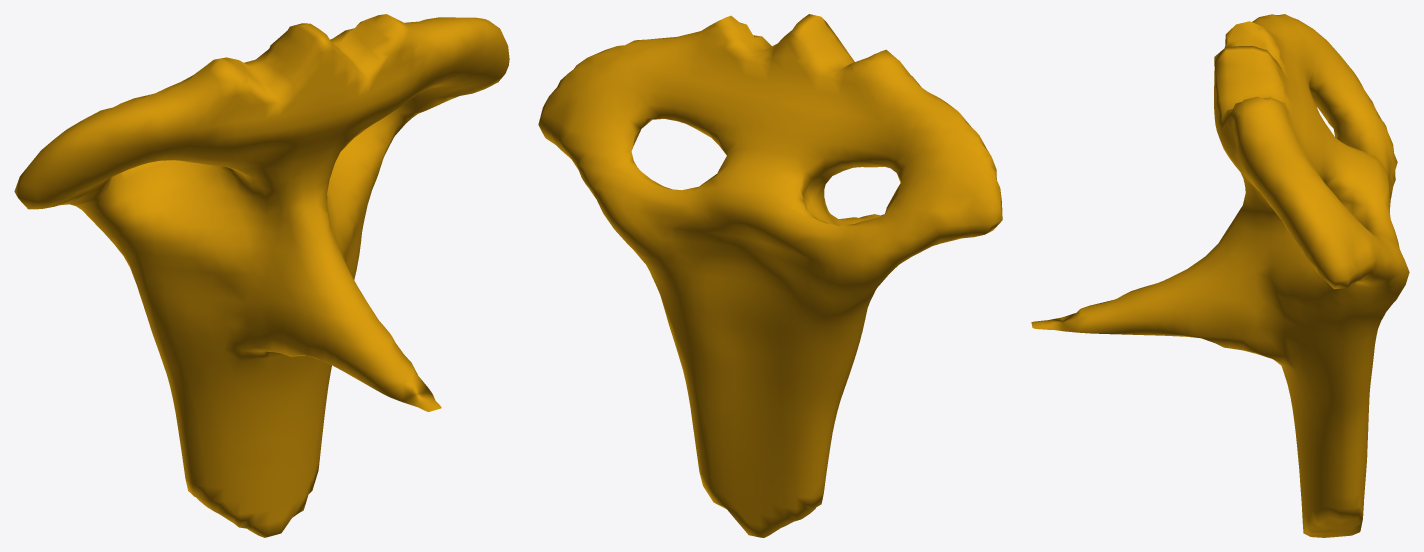
File: mask.gltf
The picture shows the model from 3 angles, left to right: view 1: azimuth 30°, elevation 25°; view 2: azimuth 150°, elevation 25°; view 3: azimuth 270°, elevation 25°; orthographic projection. The views are drawn at different scales.
Parts seen in each view (by area): view 1: node-0; view 2: node-0; view 3: node-0.
Part boxes in pixels (bbox=[...]): node-0: bbox=[14, 14, 509, 537]; node-0: bbox=[538, 14, 1002, 537]; node-0: bbox=[1031, 14, 1409, 537].
Size of the model in its own units: 1.81 by 1.84 by 1.29.
